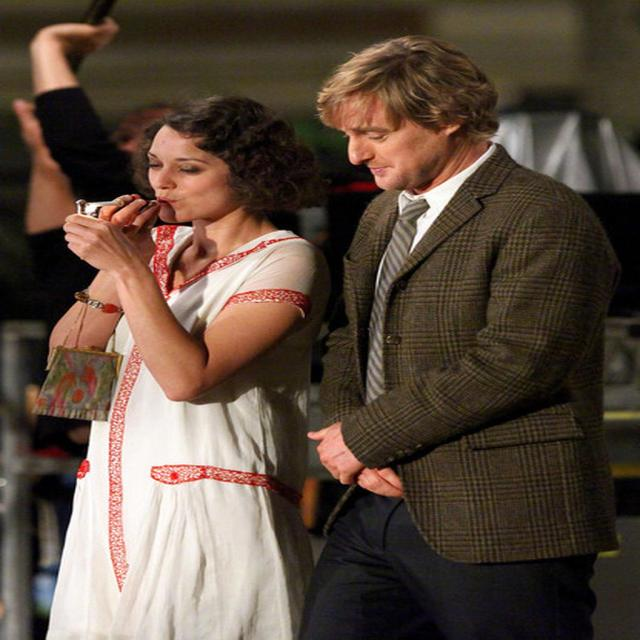smoking: (48, 100, 294, 270)
